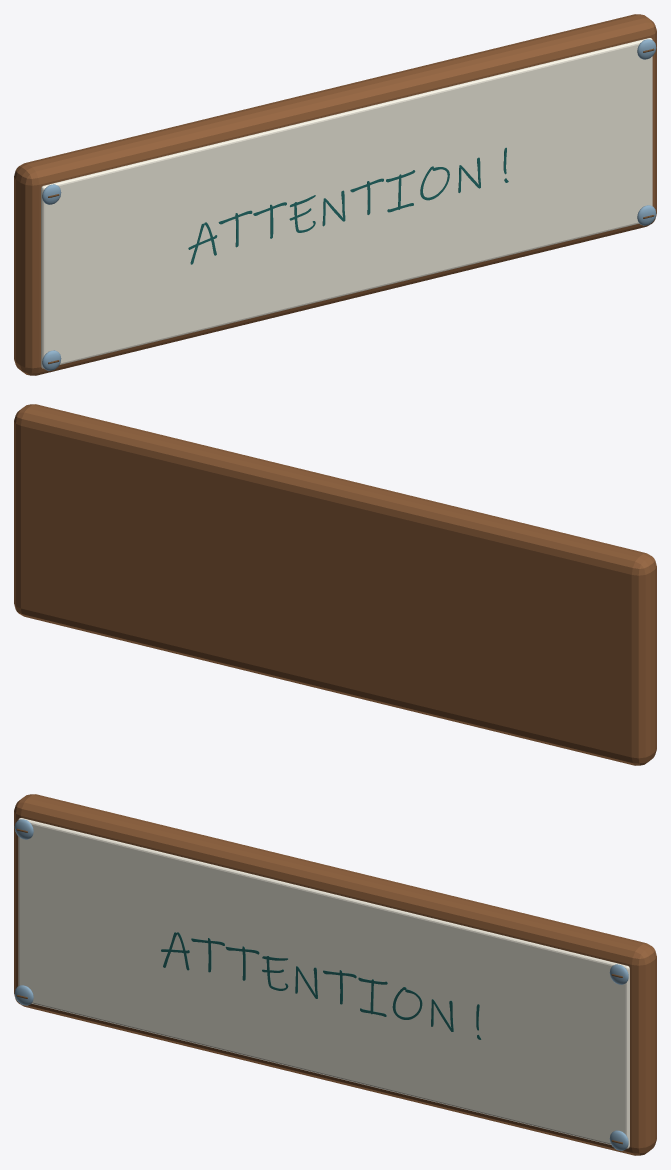
The model's file is step_warning.glb.
The picture shows the model from 3 angles, top to bottom: view 1: azimuth 30°, elevation 25°; view 2: azimuth 150°, elevation 25°; view 3: azimuth 330°, elevation 25°; orthographic projection.
Parts seen in each view (by area): view 1: Sign_cream_face, Sign_timber, Flat_sign; view 2: Sign_timber; view 3: Sign_cream_face, Sign_timber, Flat_sign.
Part boxes in pixels (box(x1,y1,x2,y2)): Sign_cream_face: box(41, 38, 652, 368); Sign_timber: box(14, 14, 656, 375); Flat_sign: box(188, 147, 508, 264); Sign_timber: box(14, 404, 656, 765); Sign_cream_face: box(18, 818, 629, 1148); Sign_timber: box(14, 794, 656, 1155); Flat_sign: box(161, 932, 481, 1039).
Bounding box in the file's own units: 0.8 × 0.25 × 0.0554.
